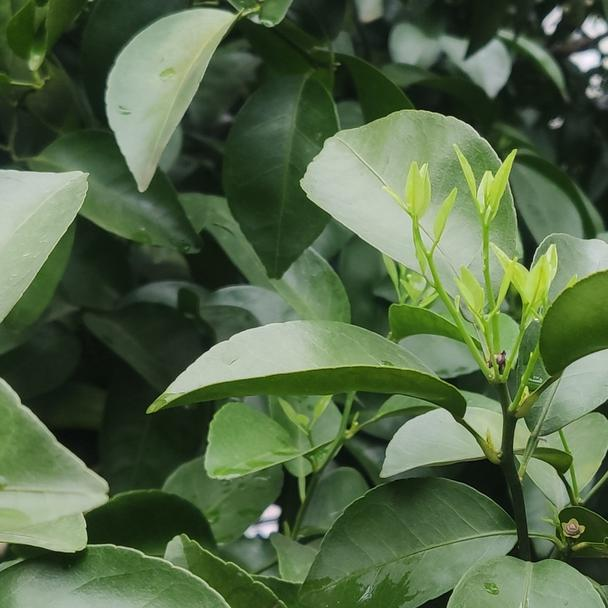shoot: (386, 170, 458, 263), (499, 251, 559, 350), (458, 150, 522, 235)
